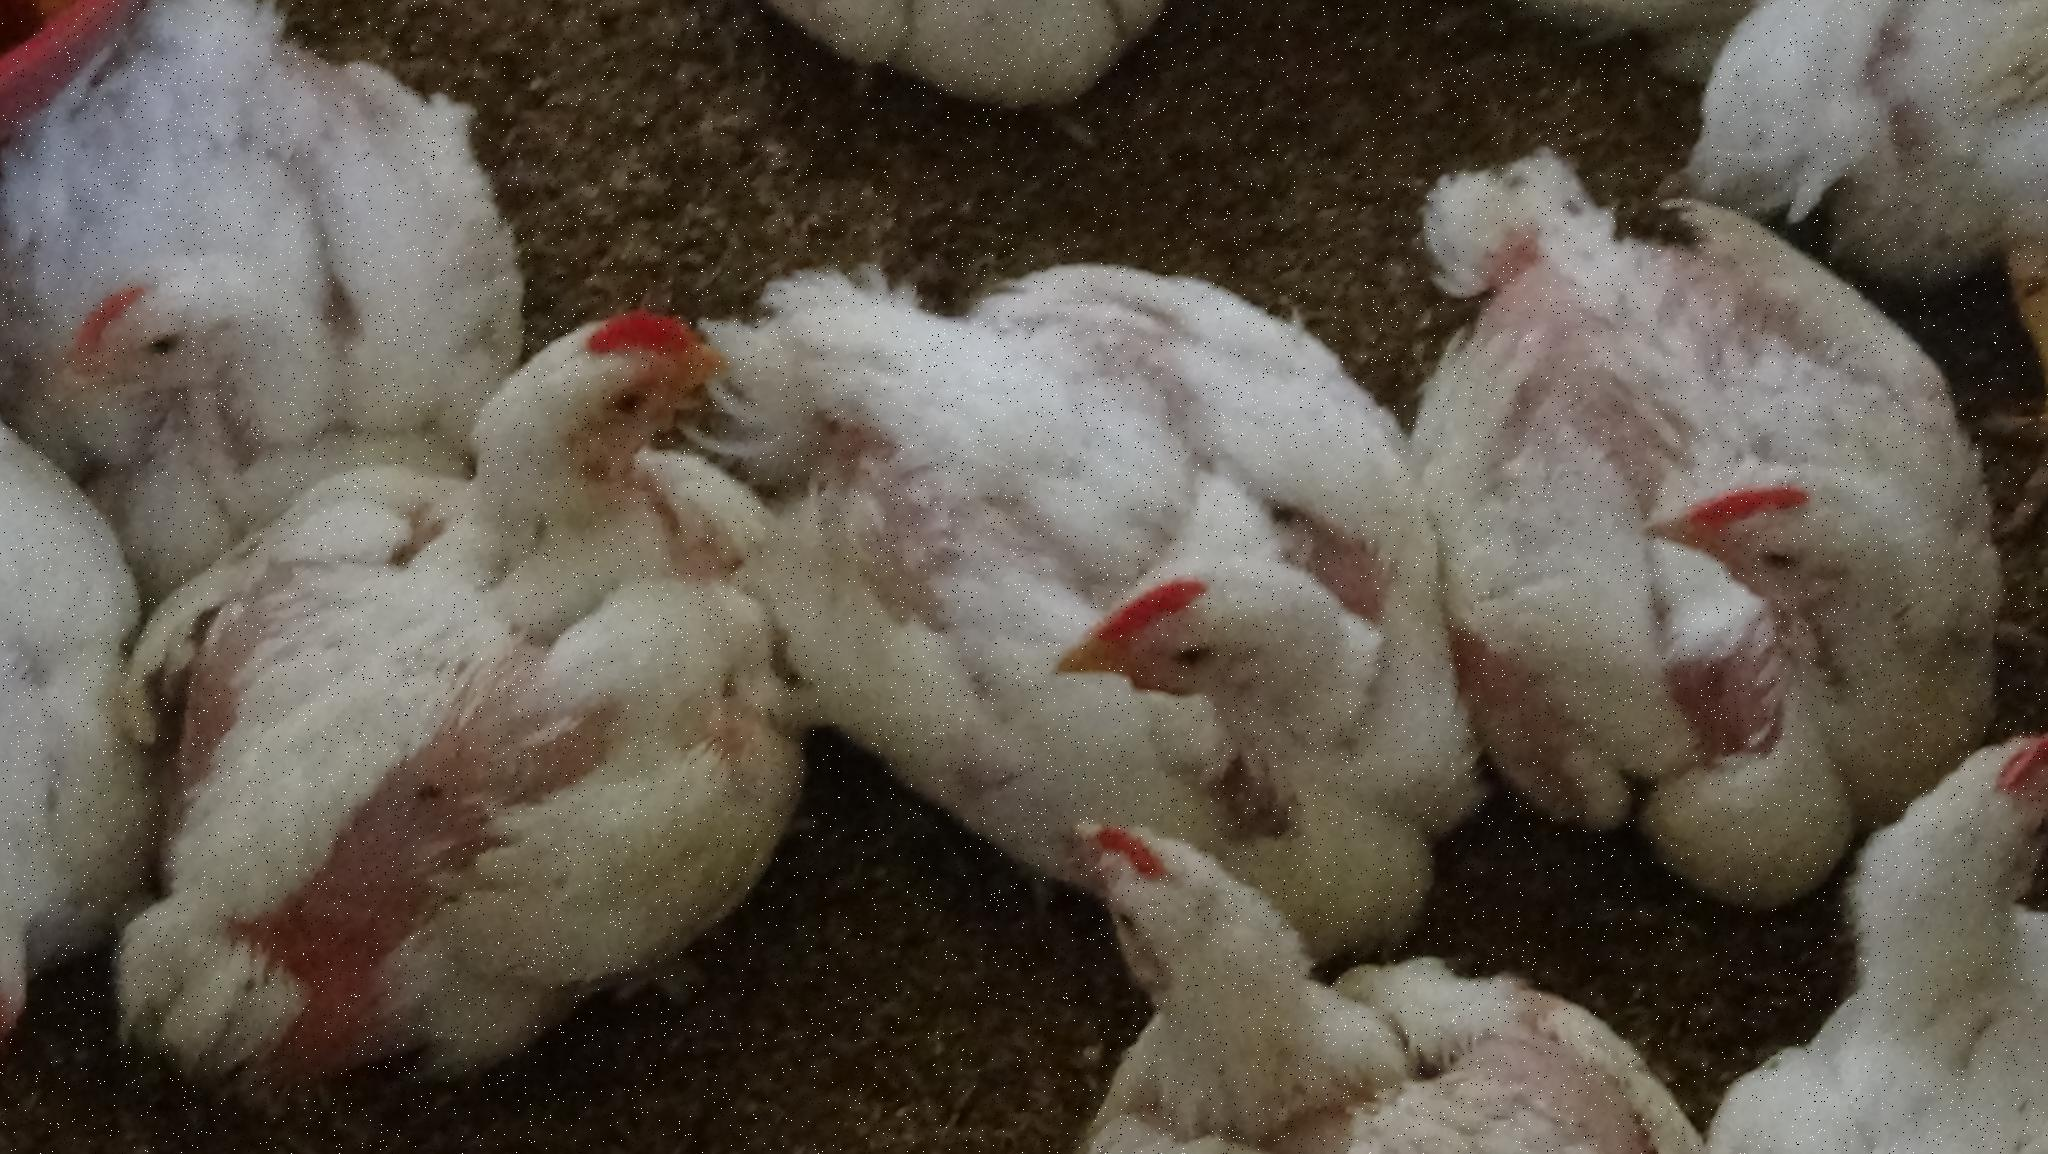Pollos: (115, 315, 831, 1109), (798, 213, 1461, 892), (1423, 160, 2045, 864), (1, 15, 553, 426), (1054, 813, 1715, 1154), (1703, 702, 2048, 1154), (1, 448, 187, 1085), (1696, 6, 2048, 288)
